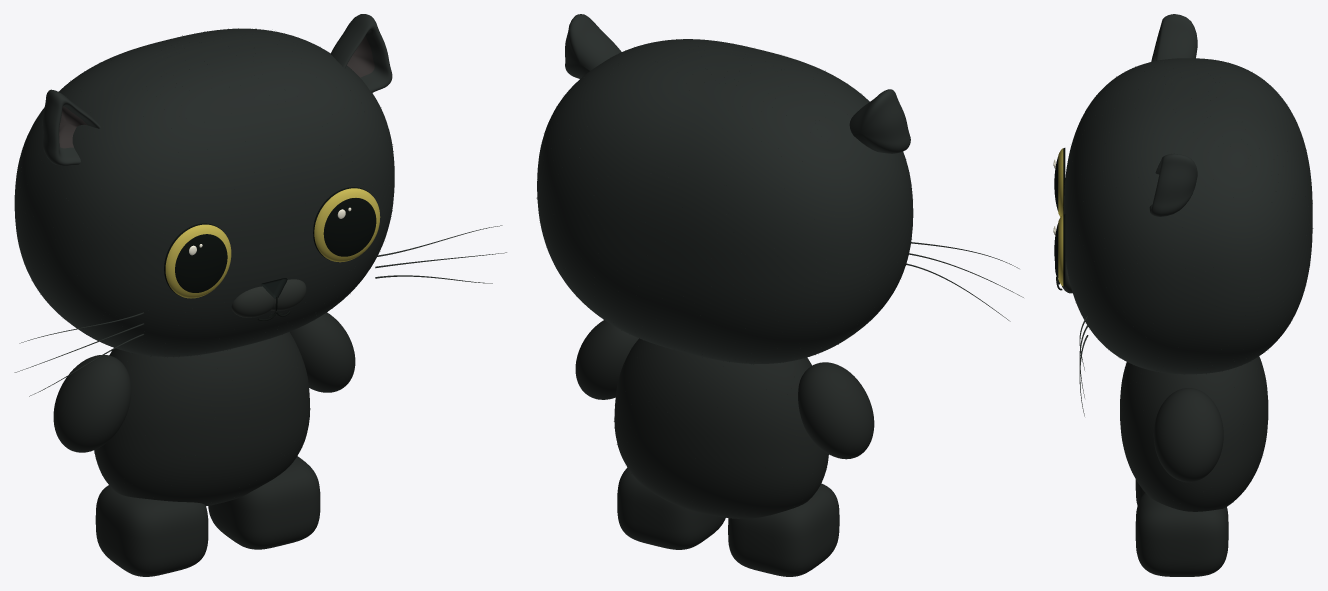
The model's file is cat.glb.
3 views of the same model, side by side, from view 1: azimuth 30°, elevation 25°; view 2: azimuth 150°, elevation 25°; view 3: azimuth 270°, elevation 25° (orthographic). The views are drawn at different scales.
Visible parts, largest first — view 1: Head_Plush_Sculpt, Body_Plush_Bean, Paw_L_Foot_Plush, Cheek_L_Plush, Paw_R_Foot_Plush, Paw_L_Arm_Plush, Paw_R_Arm_Plush, Eye_L_Pupil, Eye_R_Pupil, Ear_R_Plush, Cheek_R_Plush, Ear_L_Plush (+6 smaller); view 2: Head_Plush_Sculpt, Body_Plush_Bean, Paw_L_Foot_Plush, Paw_L_Arm_Plush, Paw_R_Foot_Plush, Paw_R_Arm_Plush, Ear_L_Plush, Ear_R_Plush; view 3: Head_Plush_Sculpt, Body_Plush_Bean, Paw_R_Foot_Plush, Paw_R_Arm_Plush, Cheek_R_Plush, Ear_R_Plush, Ear_L_Plush, Eye_R_Pupil, Eye_R_Iris_Gold_Rim, Eye_L_Iris_Gold_Rim, Eye_L_Pupil.
Boxes of the visible parts, box(x1,y1,x2,y2) form: Head_Plush_Sculpt: box(14, 28, 394, 356); Body_Plush_Bean: box(94, 332, 310, 506); Paw_L_Foot_Plush: box(95, 485, 208, 576); Cheek_L_Plush: box(70, 287, 209, 356); Paw_R_Foot_Plush: box(208, 456, 320, 549); Paw_L_Arm_Plush: box(53, 355, 131, 452); Paw_R_Arm_Plush: box(290, 312, 355, 392); Eye_L_Pupil: box(164, 223, 227, 296); Eye_R_Pupil: box(313, 187, 376, 259); Ear_R_Plush: box(330, 14, 392, 92); Cheek_R_Plush: box(300, 224, 389, 326); Ear_L_Plush: box(42, 89, 100, 165); Head_Plush_Sculpt: box(537, 39, 913, 363); Body_Plush_Bean: box(614, 338, 828, 518); Paw_L_Foot_Plush: box(728, 483, 839, 576); Paw_L_Arm_Plush: box(798, 362, 874, 459); Paw_R_Foot_Plush: box(617, 467, 725, 549); Paw_R_Arm_Plush: box(575, 320, 638, 399); Ear_L_Plush: box(849, 89, 910, 153); Ear_R_Plush: box(565, 14, 621, 78); Head_Plush_Sculpt: box(1063, 58, 1312, 374); Body_Plush_Bean: box(1120, 356, 1268, 511); Paw_R_Foot_Plush: box(1135, 492, 1228, 576); Paw_R_Arm_Plush: box(1153, 388, 1223, 482); Cheek_R_Plush: box(1069, 277, 1144, 368); Ear_R_Plush: box(1149, 153, 1197, 216); Ear_L_Plush: box(1151, 14, 1197, 61); Eye_R_Pupil: box(1054, 214, 1065, 286); Eye_R_Iris_Gold_Rim: box(1058, 215, 1063, 286); Eye_L_Iris_Gold_Rim: box(1058, 148, 1063, 216); Eye_L_Pupil: box(1054, 148, 1065, 214).
Size of the model in its own units: 2.22 by 2.15 by 1.11.
